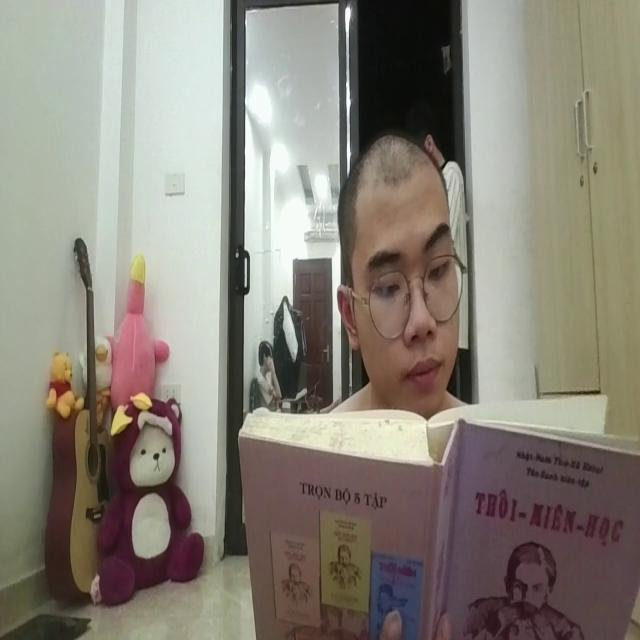book: (231, 390, 640, 640)
extra_person: (420, 131, 473, 359), (254, 333, 292, 412)
student: (333, 136, 466, 428)
